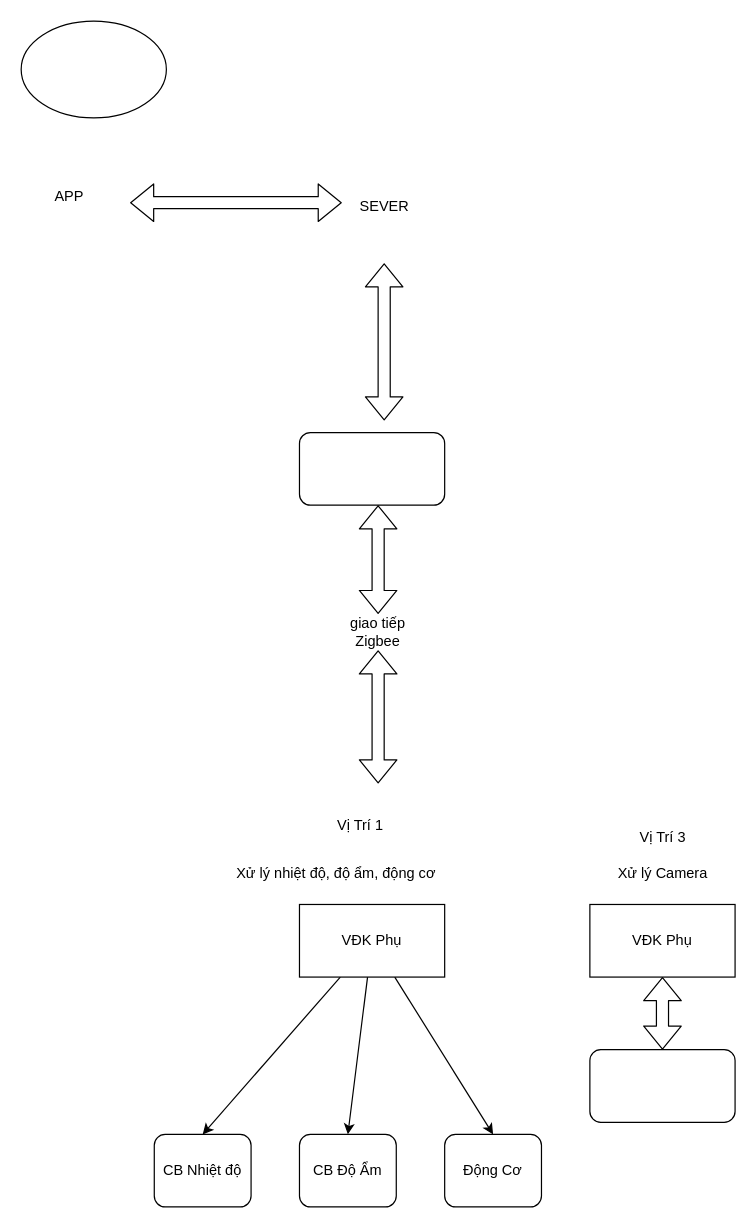
Image size: 756x1228. Some labels were removed from this diagram. The centre of each missing label's shape, as x and y in pixels:
"Camera" goes at (662,1085).
"Chat Bot" goes at (93,69).
"VĐK chính" goes at (371,468).
